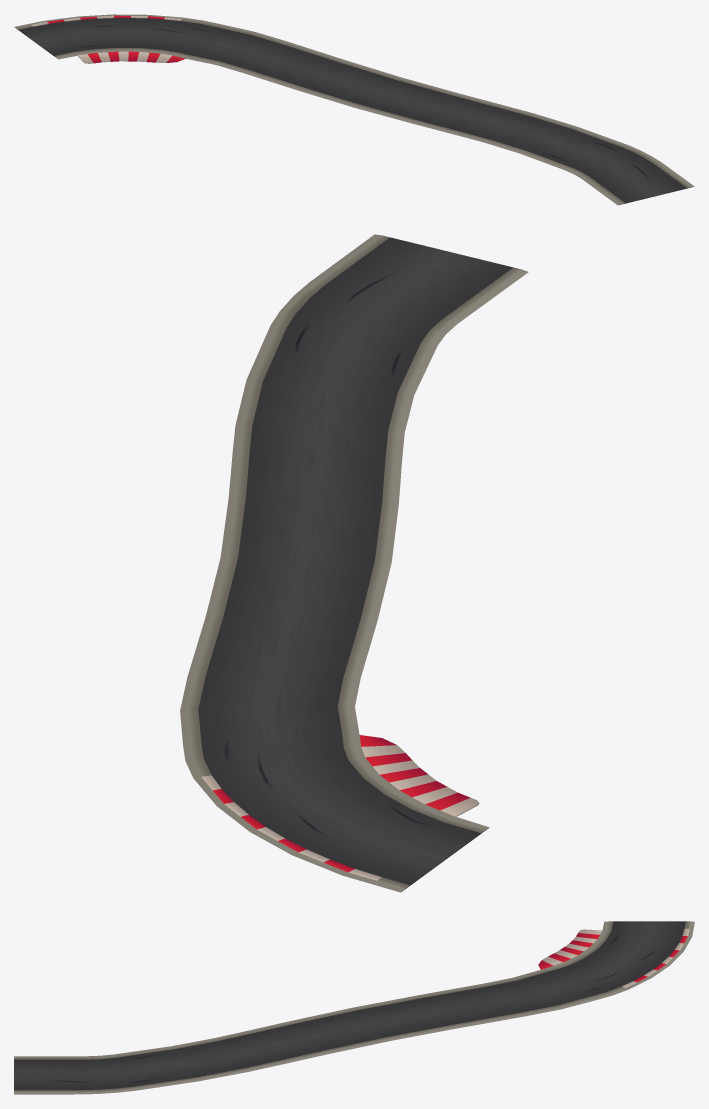
The model's file is Special_1A.fbx.
The picture shows the model from 3 angles, top to bottom: view 1: azimuth 30°, elevation 25°; view 2: azimuth 150°, elevation 25°; view 3: azimuth 270°, elevation 25°; orthographic projection. The views are drawn at different scales.
Parts seen in each view (by area): view 1: Special_1A, Special_1A_Skidmarks; view 2: Special_1A, Special_1A_Skidmarks; view 3: Special_1A, Special_1A_Skidmarks.
Boxes of the visible parts, x1,y1,x2,y2 form: Special_1A: (14,14,694,205); Special_1A_Skidmarks: (72,26,651,181); Special_1A: (180,234,528,892); Special_1A_Skidmarks: (224,270,431,838); Special_1A: (14,921,694,1094); Special_1A_Skidmarks: (46,932,657,1083).
Size of the model in its own units: 9000 by 10.4 by 15000.
